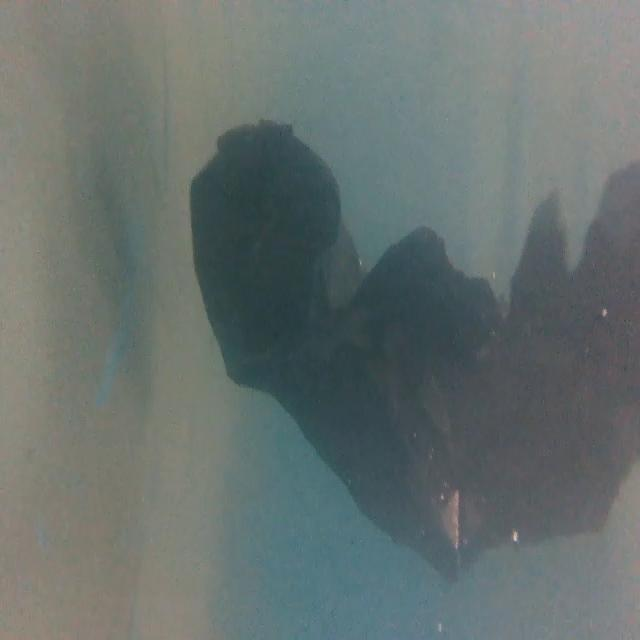plastic bags: (188, 108, 638, 580)
